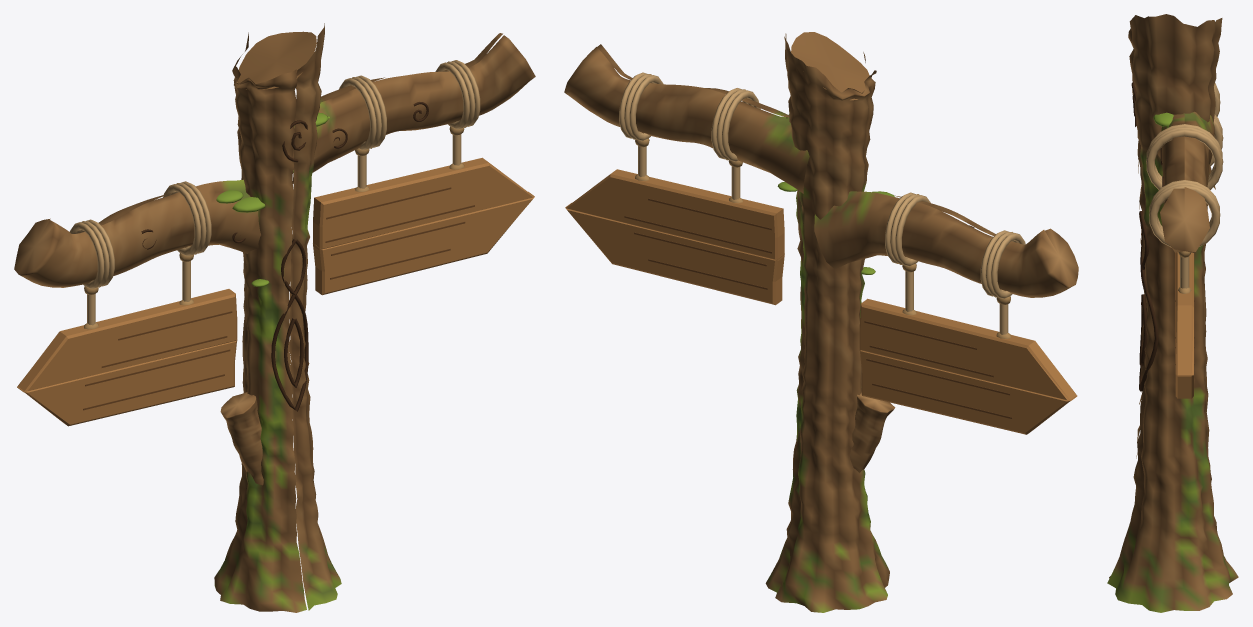
Rendered from 09-signpost.glb.
The picture shows the model from 3 angles, left to right: view 1: azimuth 30°, elevation 25°; view 2: azimuth 150°, elevation 25°; view 3: azimuth 270°, elevation 25°; orthographic projection. The views are drawn at different scales.
Parts seen in each view (by area): view 1: Signpost; view 2: Signpost; view 3: Signpost.
Boxes of the visible parts, x1,y1,x2,y2 form: Signpost: (14, 23, 535, 612); Signpost: (564, 32, 1078, 612); Signpost: (1107, 14, 1238, 612).
Bounding box in the file's own units: 8.77 × 9.22 × 1.87.
